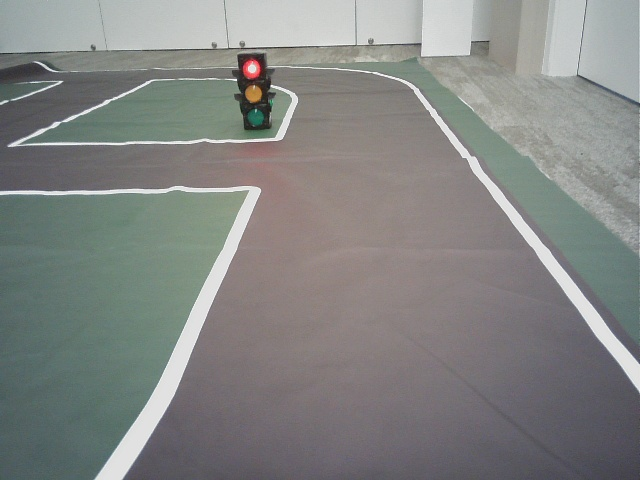red: (239, 57, 266, 125)
